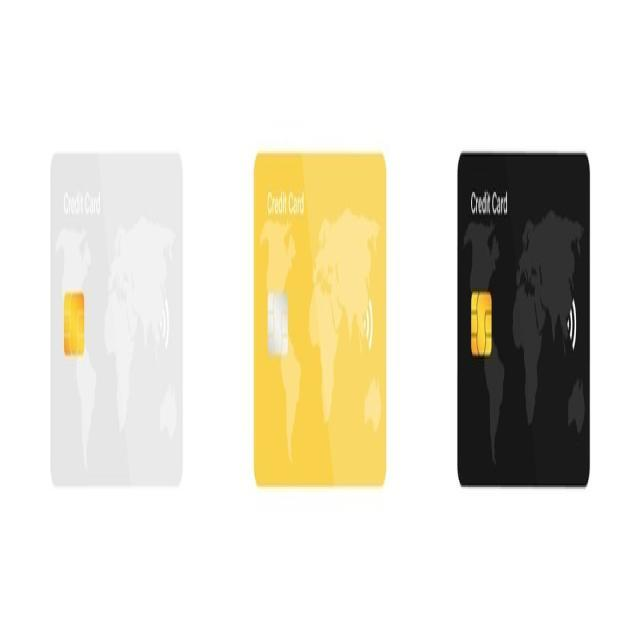payment_card: (252, 151, 387, 487), (456, 151, 590, 487), (49, 152, 183, 486)
